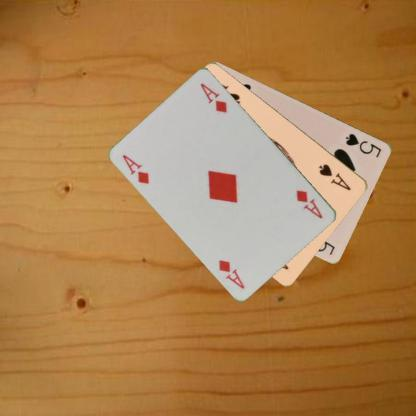5s: (343, 130, 383, 159)
Ad: (120, 152, 150, 186), (294, 187, 324, 220)
As: (316, 161, 352, 192)
